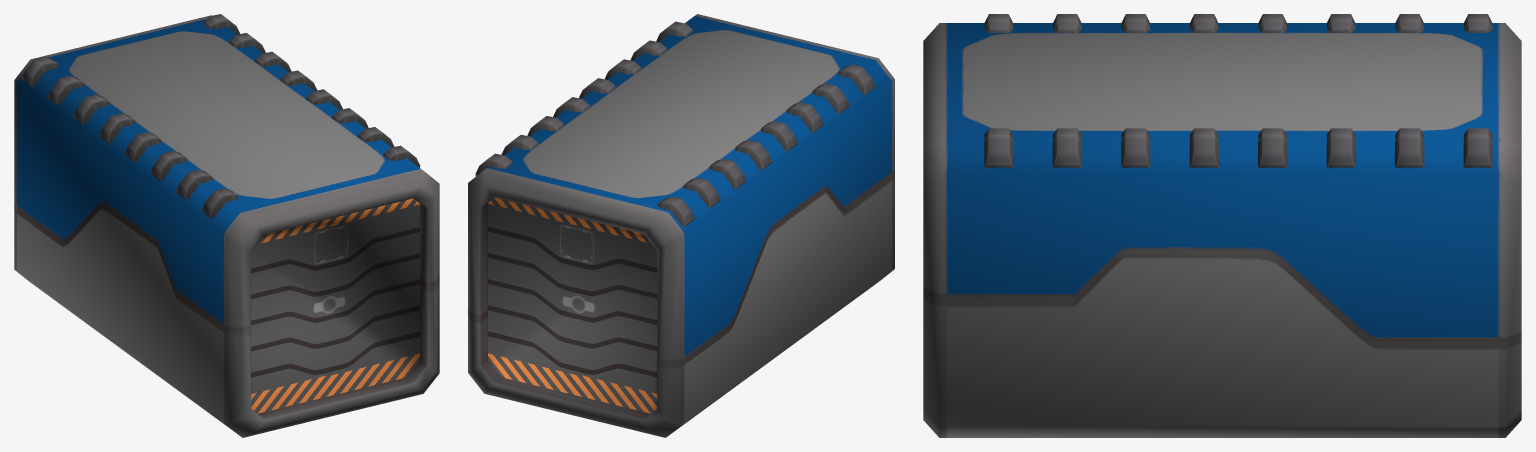
Rendered from ContainerC_B.fbx.
3 views of the same model, side by side, from view 1: azimuth 30°, elevation 25°; view 2: azimuth 150°, elevation 25°; view 3: azimuth 270°, elevation 25° (orthographic). The views are drawn at different scales.
Visible parts, largest first — view 1: ContainerC_B; view 2: ContainerC_B; view 3: ContainerC_B.
Part boxes in pixels (x1=…): ContainerC_B: x1=14, y1=14, x2=439, y2=437; ContainerC_B: x1=468, y1=14, x2=894, y2=437; ContainerC_B: x1=923, y1=14, x2=1521, y2=437.
Bounding box in the file's own units: 2.3 × 2.36 × 4.2.
